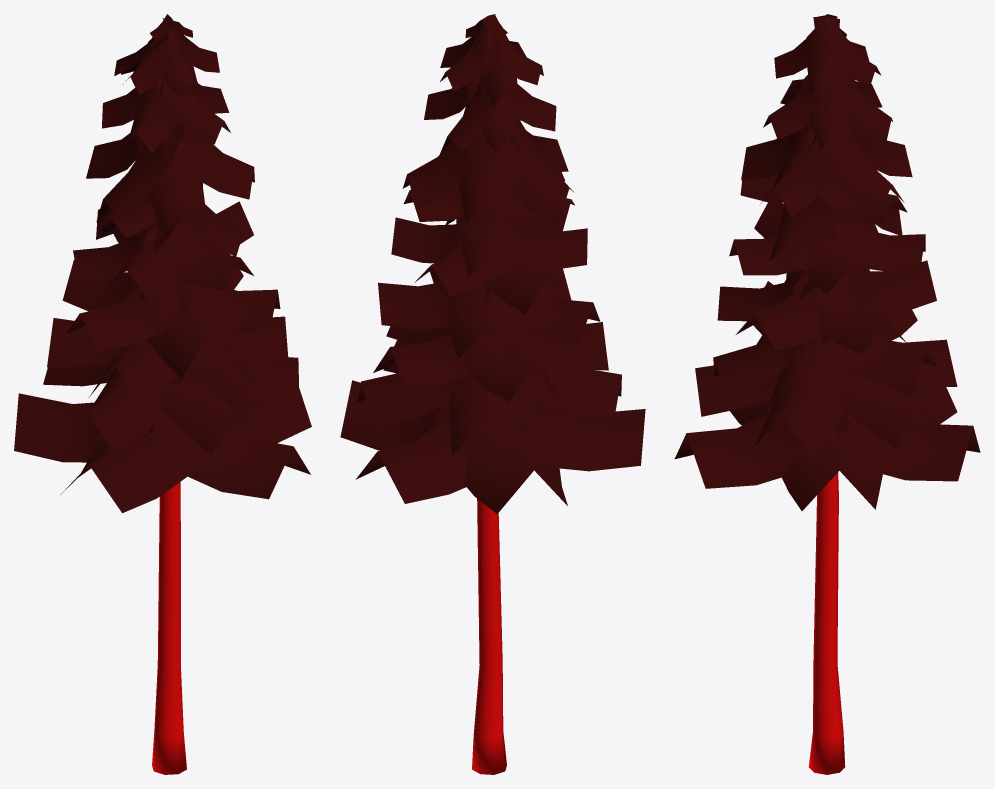
Rendered from Large_Pine_Tree.fbx.
3 renders of one model, left to right at view 1: azimuth 30°, elevation 25°; view 2: azimuth 150°, elevation 25°; view 3: azimuth 270°, elevation 25°, orthographic.
Parts seen in each view (by area): view 1: SM_Tree_Pine_Large_02; view 2: SM_Tree_Pine_Large_02; view 3: SM_Tree_Pine_Large_02.
Part boxes in pixels (box(x1,y1,x2,y2)): SM_Tree_Pine_Large_02: box(14, 14, 311, 774); SM_Tree_Pine_Large_02: box(340, 14, 645, 774); SM_Tree_Pine_Large_02: box(674, 14, 980, 774).
Bounding box in the file's own units: 314 × 859 × 317.
